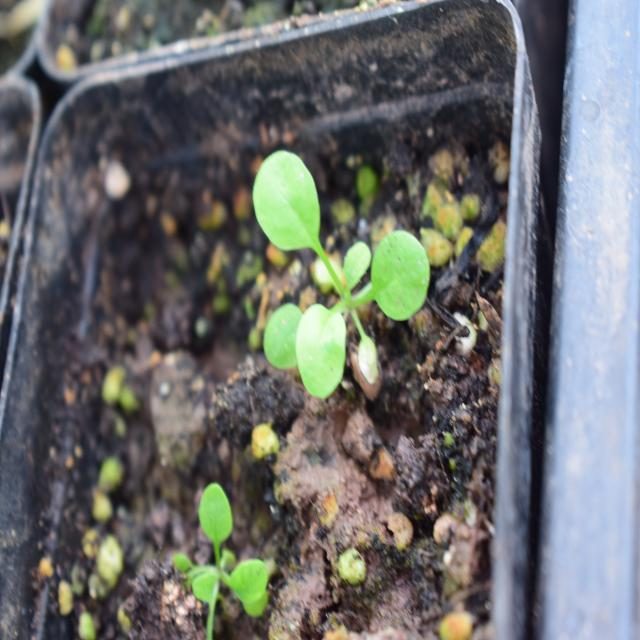Shepherd_Purse: (240, 98, 421, 410)
